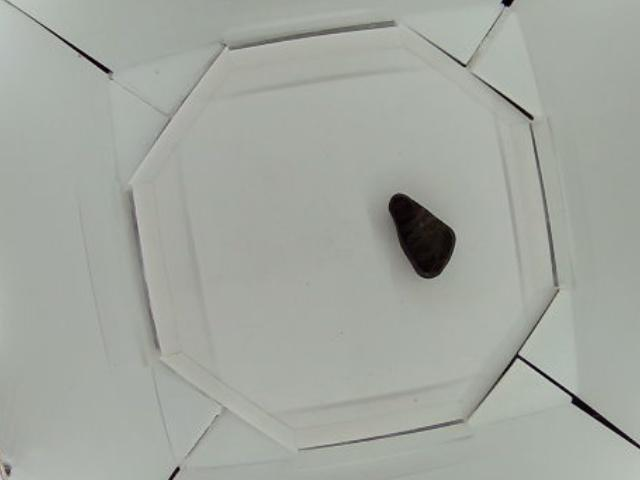Pebble: (389, 192, 459, 277)
